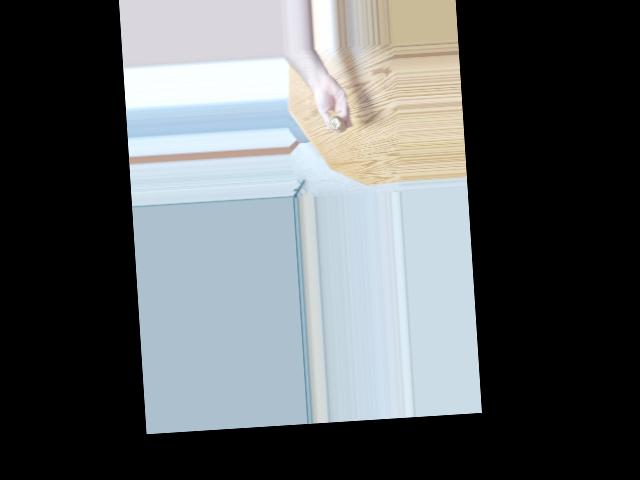sweet_potato: (325, 116, 343, 136)
